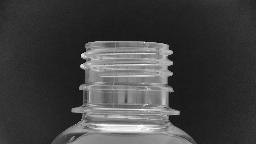No Cap: (68, 38, 182, 120)
